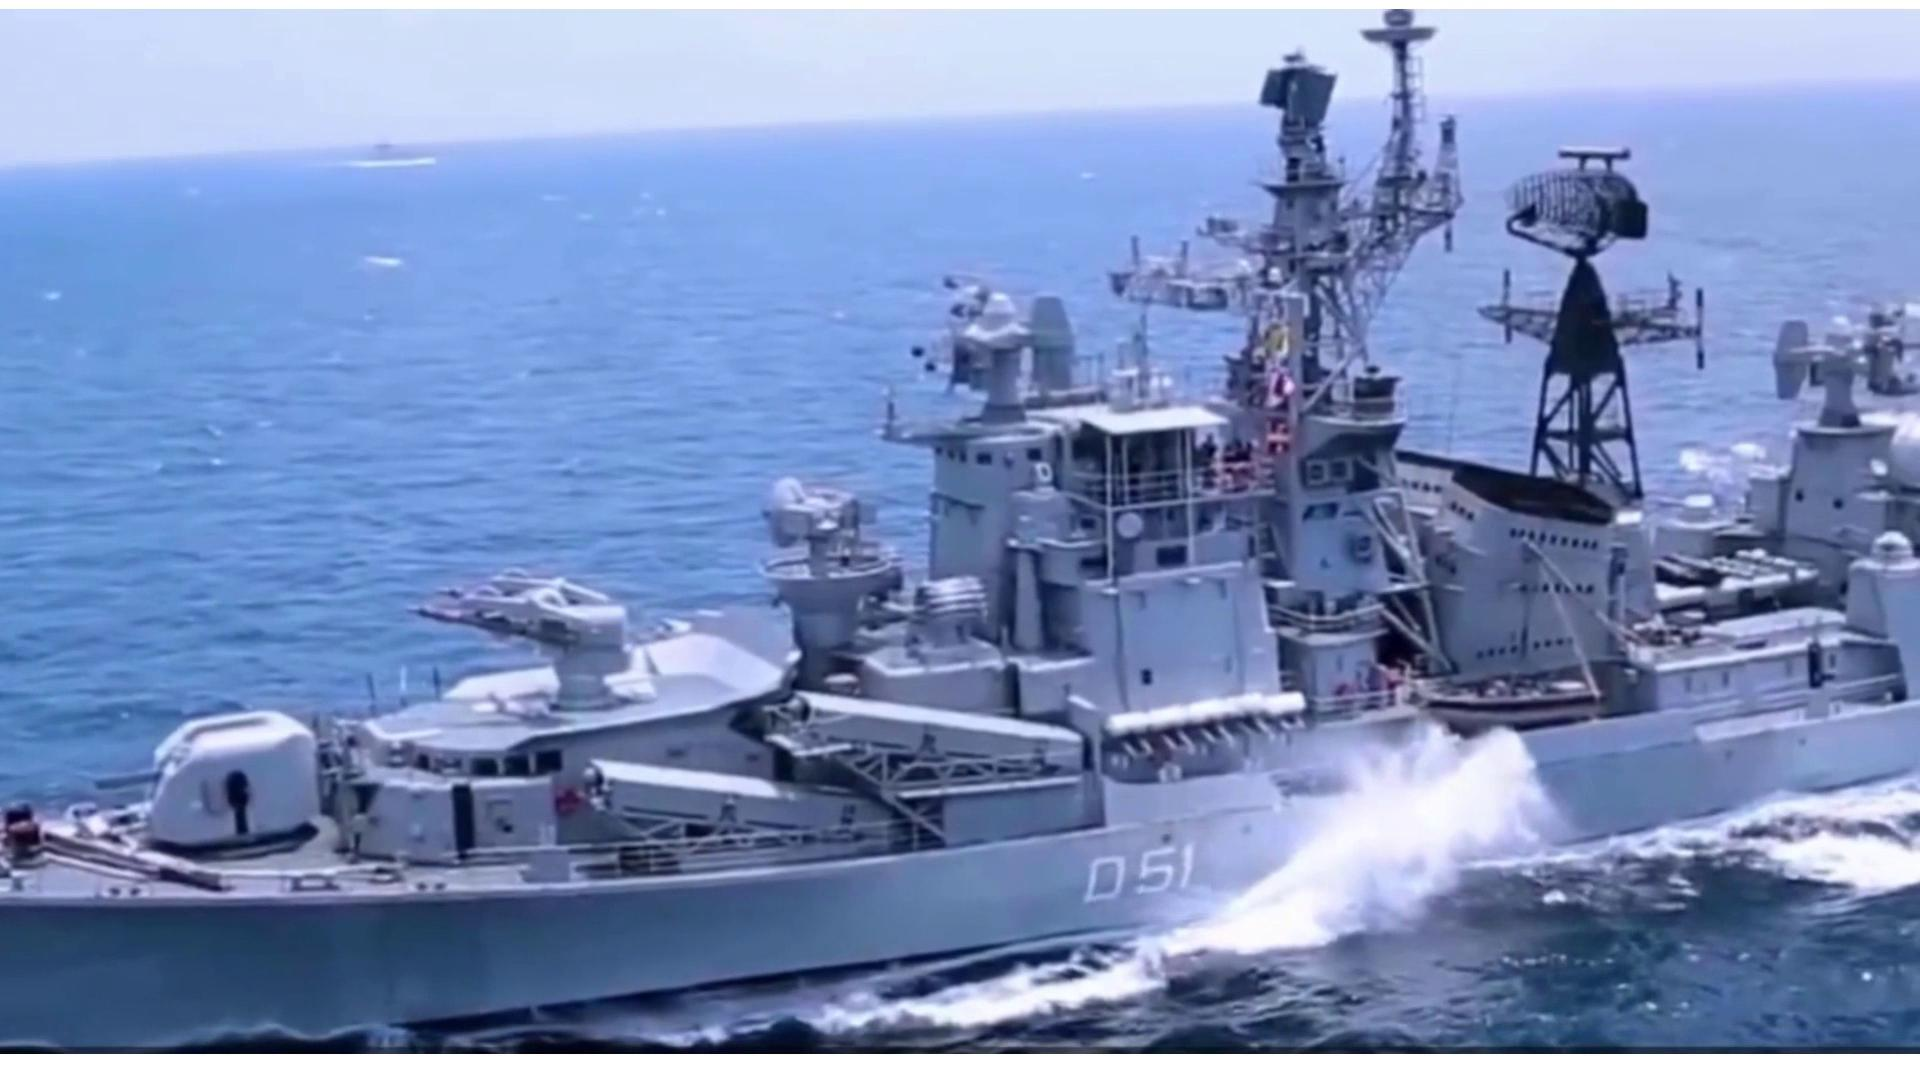OCR: (1072, 835, 1211, 919)
